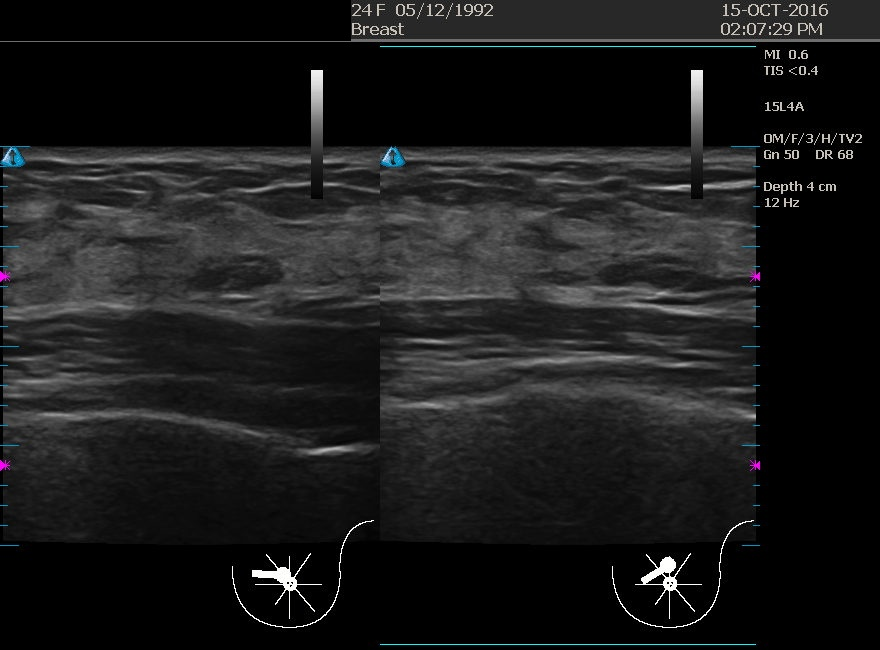BIRADS_2: (133, 203, 334, 403), (536, 203, 736, 403)
